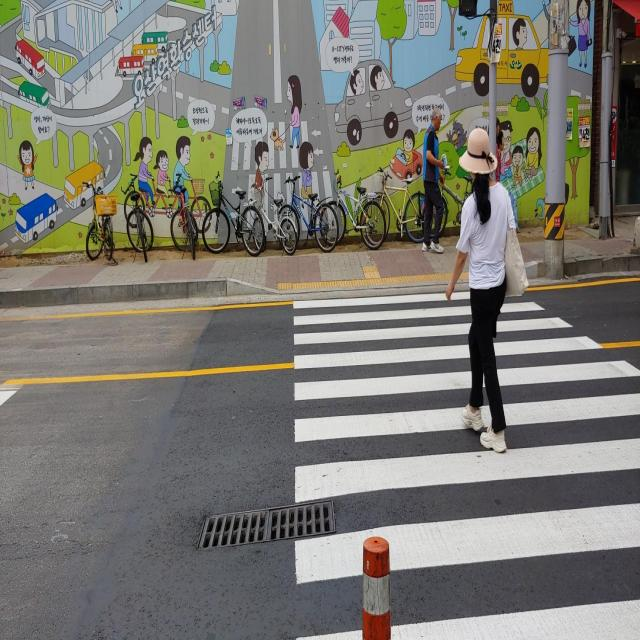횡단보도: (292, 288, 640, 640)
